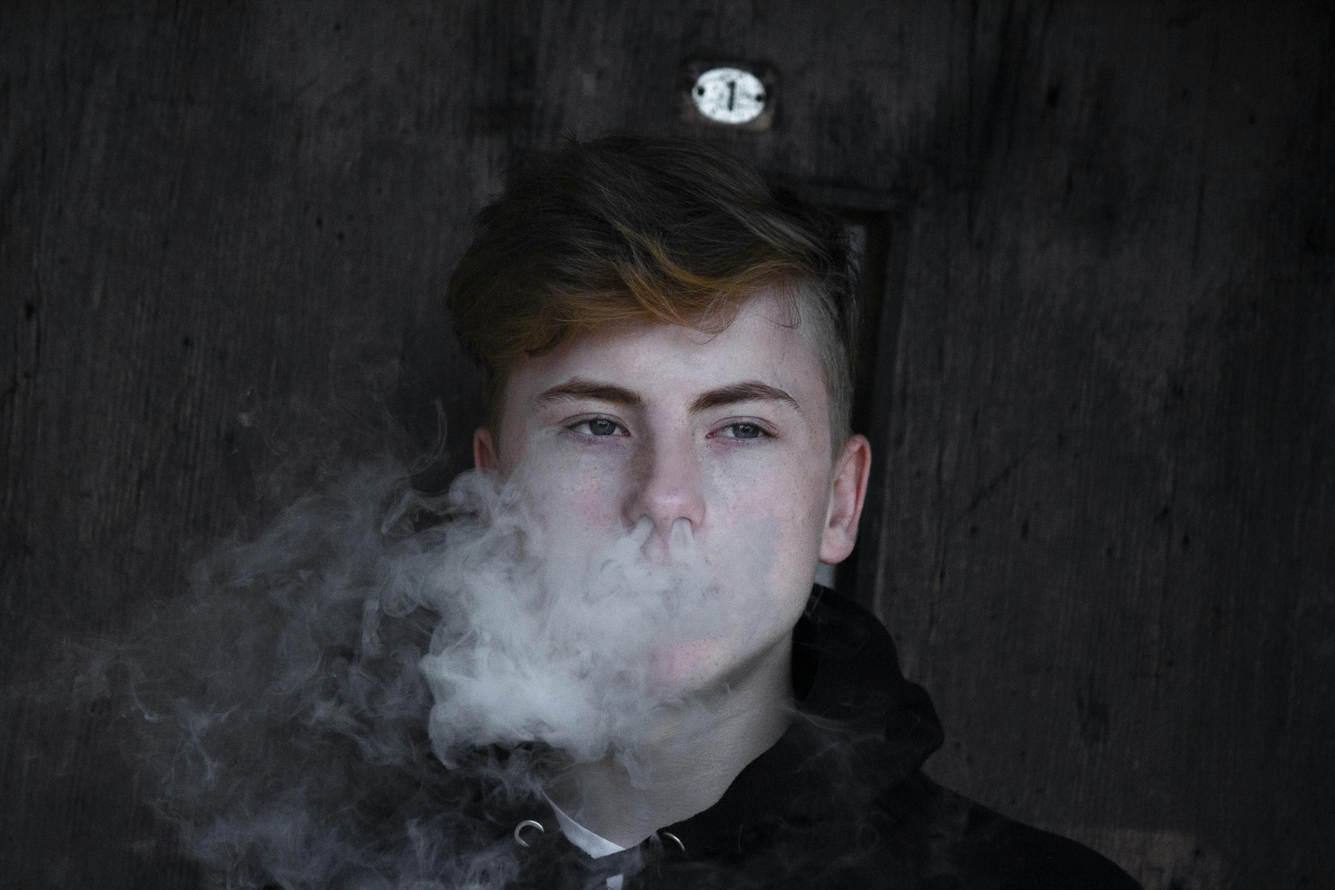smoker: (253, 147, 920, 890)
